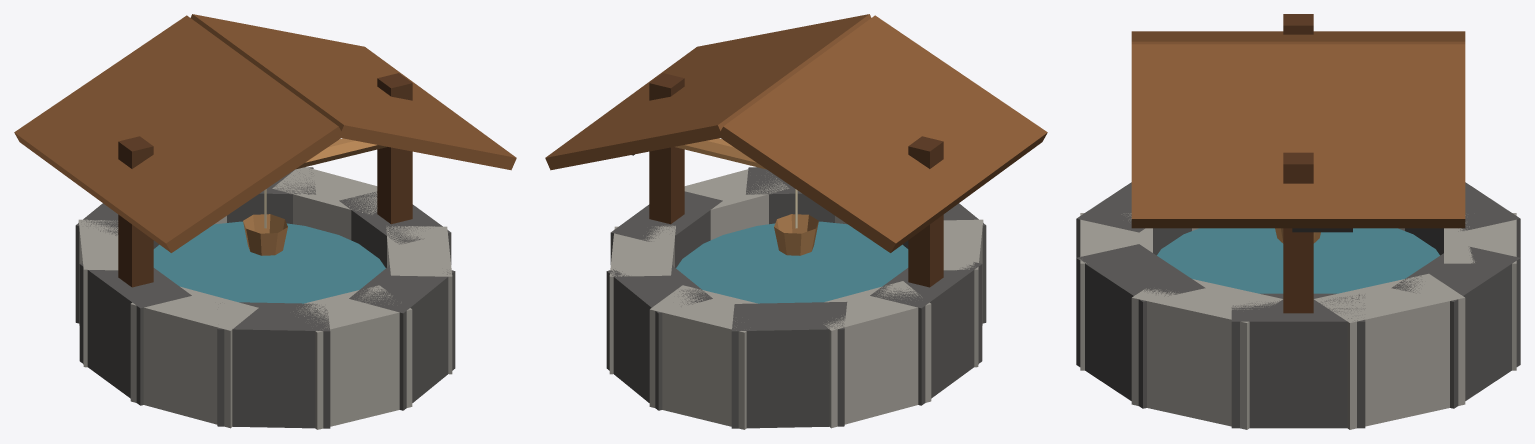
File: TownWell.fbx
The picture shows the model from 3 angles, left to right: view 1: azimuth 30°, elevation 25°; view 2: azimuth 150°, elevation 25°; view 3: azimuth 270°, elevation 25°; orthographic projection. The views are drawn at different scales.
Parts seen in each view (by area): view 1: Ring, Roof, Detail; view 2: Ring, Roof, Detail; view 3: Ring, Roof, Detail.
Boxes of the visible parts, left/top/right/bottom form: Ring: left=75, top=167, right=455, bottom=429; Roof: left=14, top=14, right=516, bottom=252; Detail: left=118, top=73, right=412, bottom=303; Ring: left=606, top=167, right=986, bottom=429; Roof: left=545, top=14, right=1047, bottom=252; Detail: left=632, top=73, right=943, bottom=303; Ring: left=1076, top=182, right=1520, bottom=429; Roof: left=1131, top=31, right=1465, bottom=228; Detail: left=1157, top=14, right=1439, bottom=313.
Size of the model in its own units: 8 by 6 by 8.
